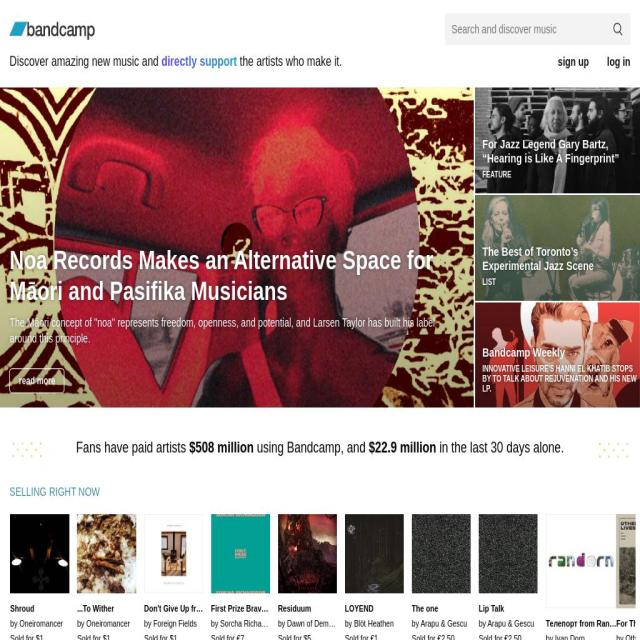button: (0, 245, 640, 407), (474, 194, 640, 301), (474, 88, 640, 194), (474, 302, 640, 408), (324, 514, 396, 640), (402, 514, 474, 640), (10, 514, 81, 640), (89, 514, 160, 640), (167, 514, 238, 640), (560, 514, 631, 640), (246, 514, 316, 640), (482, 514, 552, 640), (613, 22, 623, 36), (639, 514, 640, 640)
field: (444, 13, 630, 45)
heading: (9, 245, 462, 307), (482, 364, 640, 395), (482, 136, 632, 165), (482, 244, 632, 272), (482, 345, 632, 360), (436, 439, 564, 456), (9, 54, 162, 68), (76, 439, 190, 456), (482, 276, 640, 288), (482, 169, 640, 180), (10, 22, 96, 40), (246, 618, 373, 630), (253, 439, 341, 456), (481, 618, 604, 630), (237, 54, 342, 68), (403, 618, 523, 630), (10, 485, 100, 498), (369, 439, 437, 456), (188, 439, 254, 456), (218, 618, 311, 630), (162, 54, 238, 68), (560, 618, 640, 630), (368, 618, 446, 630), (324, 631, 396, 640), (402, 631, 474, 640), (10, 631, 81, 640), (89, 631, 160, 640), (167, 631, 238, 640), (560, 631, 631, 640), (246, 631, 316, 640), (482, 631, 552, 640), (167, 618, 218, 630), (89, 618, 137, 630), (324, 618, 369, 630), (44, 618, 88, 630), (340, 439, 369, 456), (523, 618, 562, 630), (10, 618, 44, 630), (639, 618, 640, 630), (639, 631, 640, 640)
image: (0, 88, 474, 408), (474, 194, 640, 301), (474, 88, 640, 194), (474, 302, 640, 408), (324, 514, 396, 609), (10, 514, 81, 609), (89, 514, 160, 609), (246, 514, 316, 609), (482, 514, 552, 609), (402, 538, 474, 609), (167, 538, 238, 609), (560, 538, 631, 609), (9, 442, 42, 458), (598, 442, 630, 458), (613, 22, 623, 36), (639, 514, 640, 609)
link: (9, 315, 462, 347), (558, 55, 590, 68), (607, 55, 631, 68)
text: (18, 375, 56, 387), (612, 38, 638, 51)
